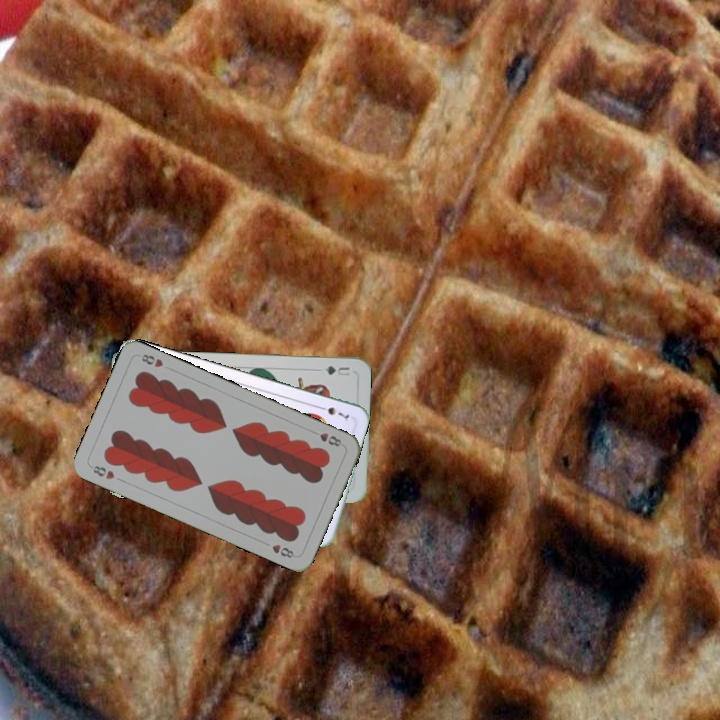GU: (321, 362, 352, 378)
H8: (86, 461, 117, 482), (316, 429, 344, 449)
S7: (314, 402, 352, 424)
